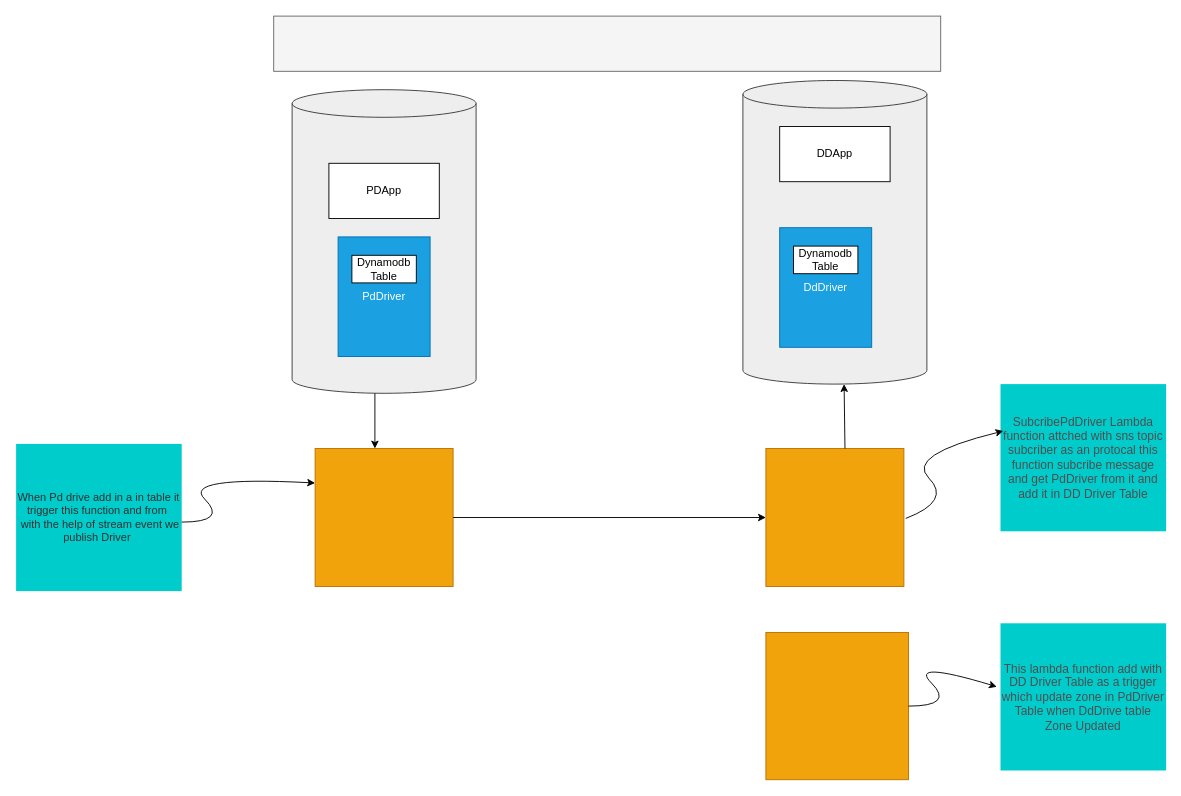
Some shapes in this 1181 by 796 pixel diagram are drawn without their labels. The shapes that lost their labels are listed below. From the top down, each one's box as (x1, y1, x2, y2) in pixels, then its label:
(273, 15, 941, 71): A2A with Aws sns
(314, 448, 453, 586): LambdaTrigger With DynamoDb PdDriver Table PublishPdDriver (PDApp Function)
(765, 448, 904, 586): SubcribePdDrive LambdaFunction (PDApp Function)
(765, 632, 908, 780): SyncDdDriverToPd (DDApp Function)
